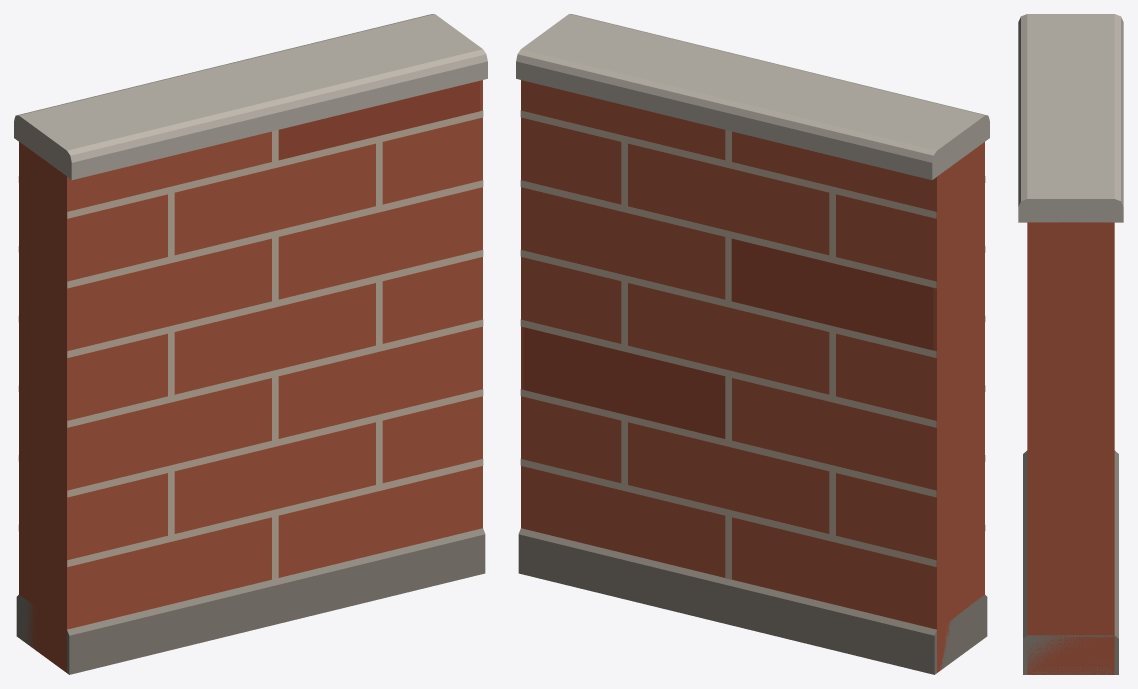
File: wand_halb.glb
3 renders of one model, left to right at view 1: azimuth 30°, elevation 25°; view 2: azimuth 150°, elevation 25°; view 3: azimuth 270°, elevation 25°, orthographic. The views are drawn at different scales.
Visible parts, largest first — view 1: wand_halb; view 2: wand_halb; view 3: wand_halb.
Boxes of the visible parts, <box> form: wand_halb: <box>14,14,487,674</box>; wand_halb: <box>516,14,989,674</box>; wand_halb: <box>1018,14,1123,674</box>.
Bounding box in the file's own units: 1 × 1.2 × 0.24.
